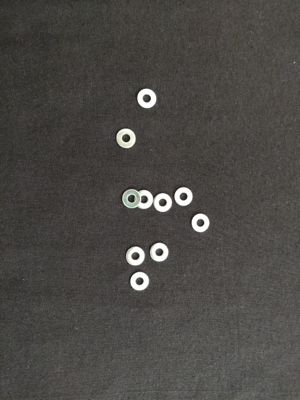circle: (137, 87, 158, 111), (134, 188, 155, 212), (121, 187, 142, 211), (173, 185, 194, 209), (191, 211, 212, 235), (126, 244, 147, 268), (129, 269, 150, 293), (116, 127, 137, 150), (152, 192, 173, 215), (150, 240, 170, 264)
